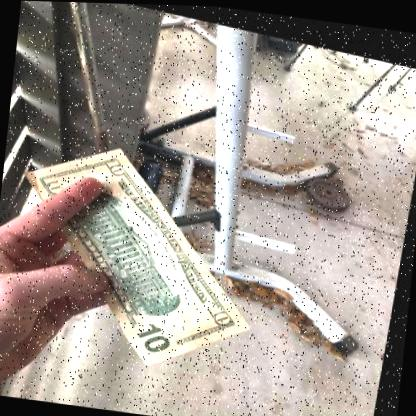ten-back: (27, 145, 256, 362)
